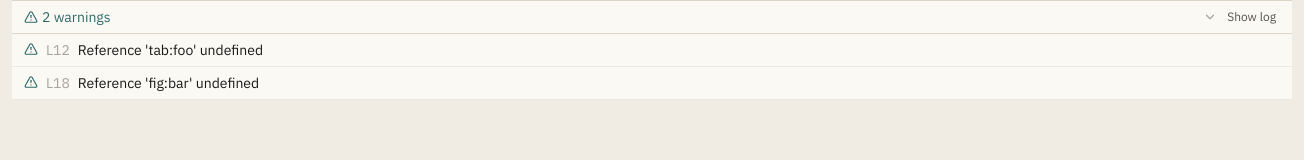
Scenario: CompilePanel collapse › shows the error list by default and hides it when collapsed
Expected: the text "L12Reference 'tab:foo' undefined" is shown, [46, 40, 263, 60]
Step 1. Click the button named "Collapse compile panel" → (1210, 17), box [1201, 8, 1219, 26]
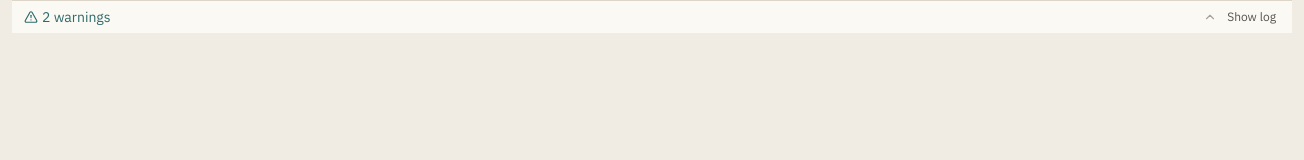
Expected: the text "2 warnings" is shown, [24, 7, 111, 27]
Result: the button "Reference 'tab:foo' undefined" is gone
